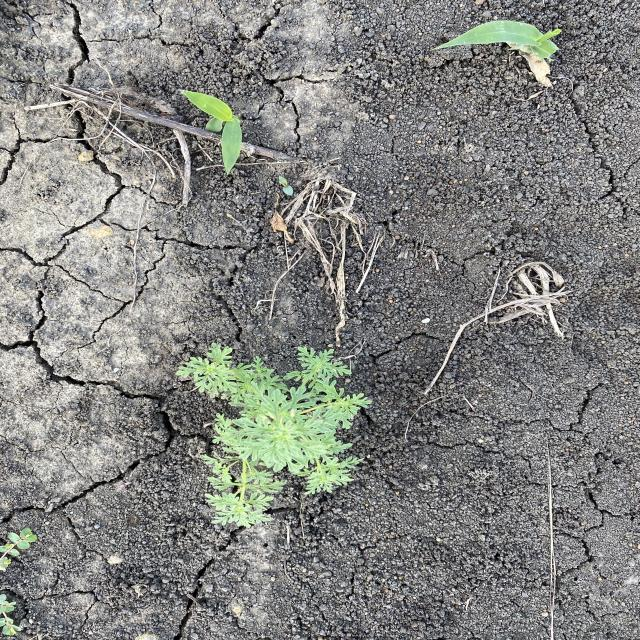Ragweed: (173, 340, 374, 530)
SpottedSpurge: (2, 525, 40, 638)
